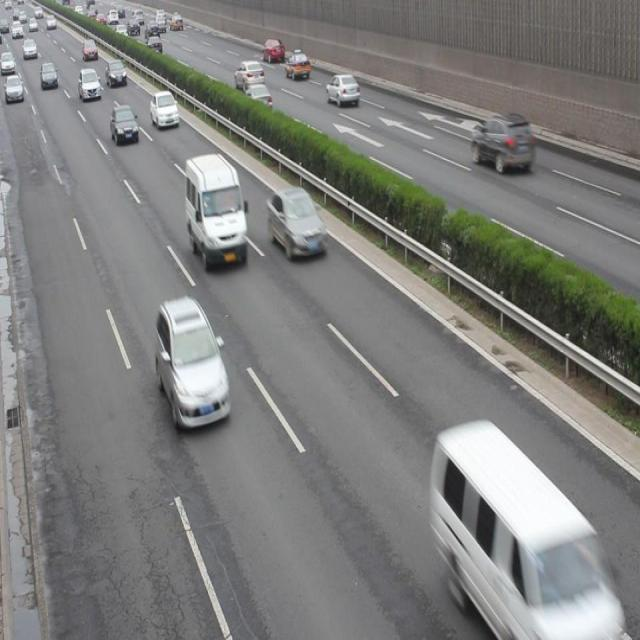car: (155, 295, 230, 430), (268, 185, 326, 261), (469, 112, 534, 174), (325, 71, 360, 108), (110, 103, 138, 147), (150, 90, 180, 129), (240, 84, 272, 115), (235, 59, 264, 90), (284, 50, 311, 82)
truck: (433, 422, 602, 640), (184, 152, 248, 270)
